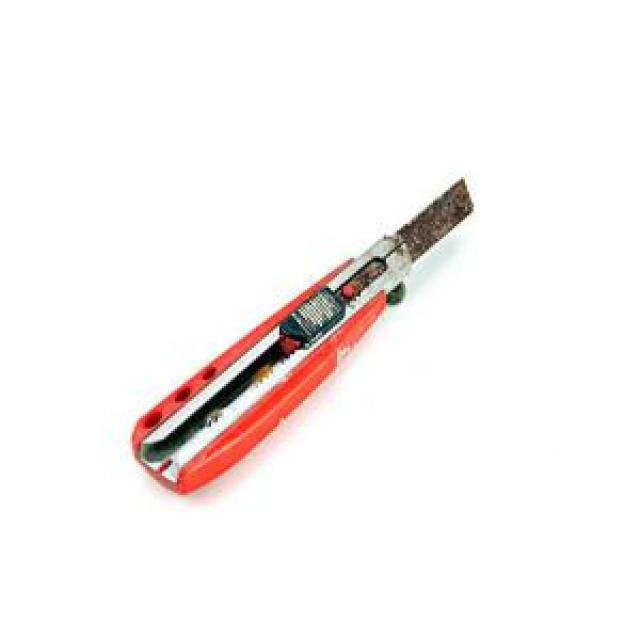knife: (128, 169, 475, 499)
